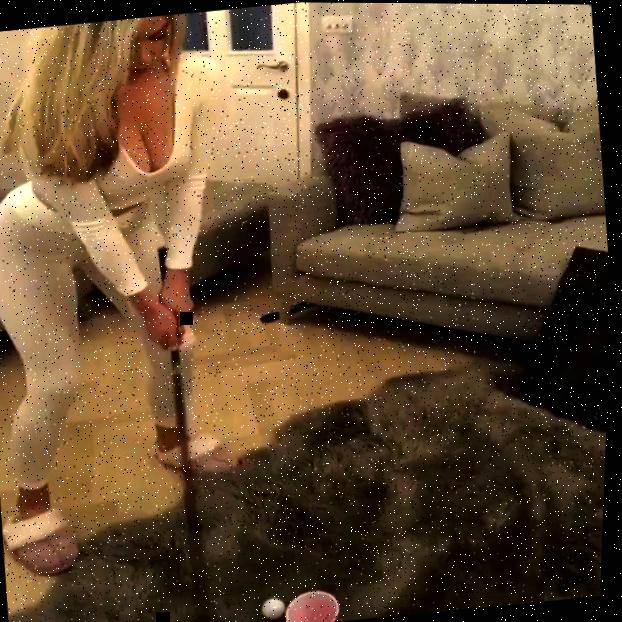GolfBall: (262, 595, 291, 621)
